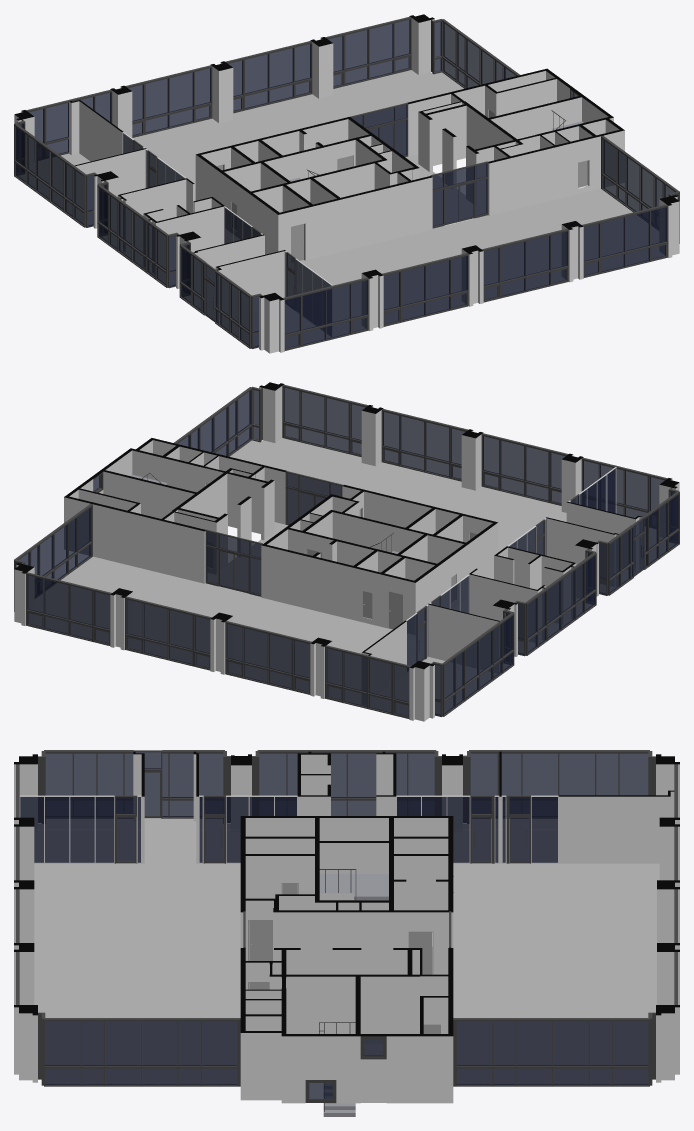
3 renders of one model, top to bottom at view 1: azimuth 30°, elevation 25°; view 2: azimuth 150°, elevation 25°; view 3: azimuth 270°, elevation 25°, orthographic. The views are drawn at different scales.
Parts seen in each view (by area): view 1: 11F, Shape092, Line069, Plane120, Rectangle157; view 2: 11F, Shape092, Line069, Plane120, Rectangle157; view 3: Line069, 11F, Shape092, Plane120, stair116, Box3171, stair117.
Boxes of the visible parts, left/top/right/bottom form: 11F: left=14, top=16, right=679, bottom=350; Shape092: left=14, top=14, right=679, bottom=353; Line069: left=19, top=70, right=664, bottom=347; Plane120: left=69, top=100, right=285, bottom=321; Rectangle157: left=405, top=154, right=485, bottom=225; 11F: left=14, top=384, right=679, bottom=718; Shape092: left=14, top=382, right=679, bottom=721; Line069: left=29, top=438, right=674, bottom=715; Plane120: left=361, top=502, right=642, bottom=706; Rectangle157: left=207, top=522, right=288, bottom=593; Line069: left=34, top=818, right=659, bottom=1083; 11F: left=16, top=750, right=677, bottom=1102; Shape092: left=14, top=754, right=679, bottom=1103; Plane120: left=133, top=751, right=674, bottom=863; stair116: left=319, top=869, right=388, bottom=900; Box3171: left=305, top=1034, right=336, bottom=1079; stair117: left=319, top=1022, right=355, bottom=1116.
Bounding box in the file's own units: 27.4 × 4.61 × 26.95.
Materials: 7 (1 with a texture image).
